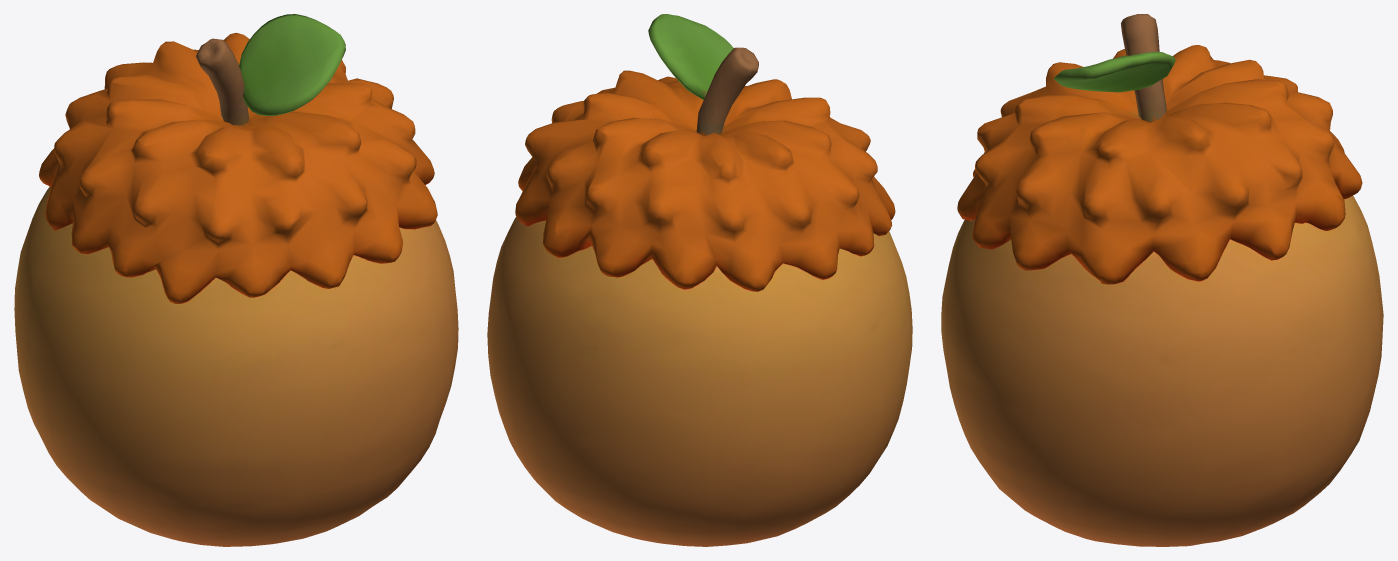
Rendered from spikefruit.glb.
3 views of the same model, side by side, from view 1: azimuth 30°, elevation 25°; view 2: azimuth 150°, elevation 25°; view 3: azimuth 270°, elevation 25° (orthographic). The views are drawn at different scales.
Parts seen in each view (by area): view 1: Spikefruit; view 2: Spikefruit; view 3: Spikefruit.
Boxes of the visible parts, x1=… form: Spikefruit: x1=14, y1=14, x2=458, y2=546; Spikefruit: x1=487, y1=14, x2=912, y2=546; Spikefruit: x1=941, y1=14, x2=1383, y2=546.
Size of the model in its own units: 0.8145 by 0.998 by 0.8184.
1 material, 1 textured.
